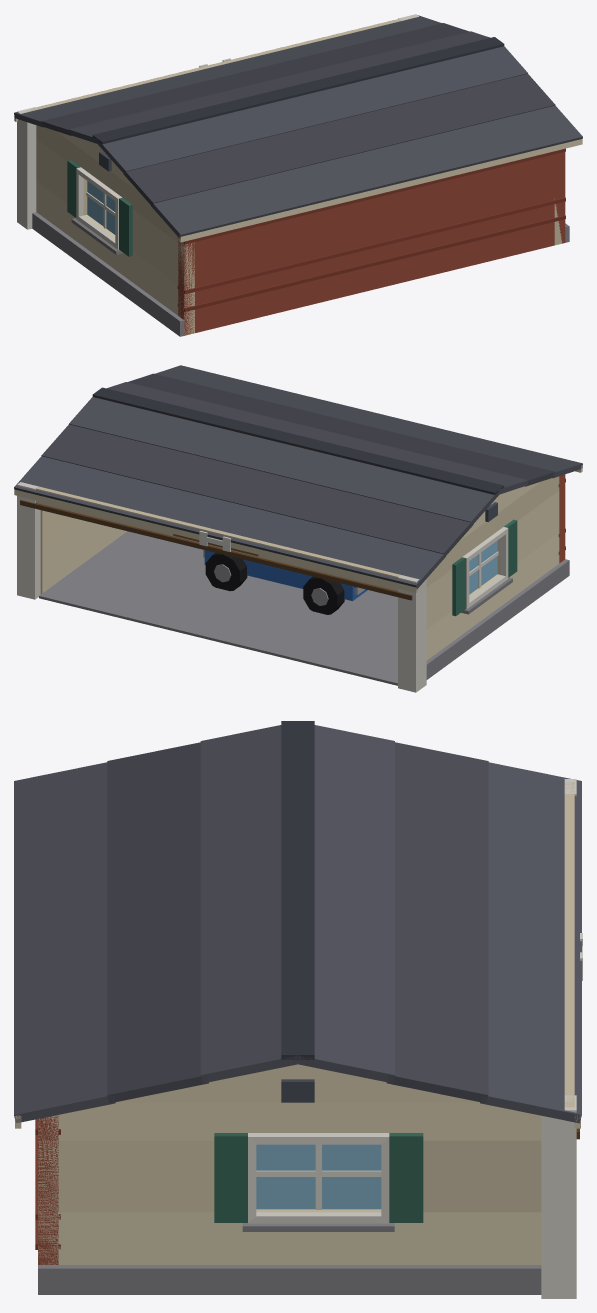
Rendered from Decor_LittleHouse_Garage.fbx.
3 views of the same model, one above another, from view 1: azimuth 30°, elevation 25°; view 2: azimuth 150°, elevation 25°; view 3: azimuth 270°, elevation 25° (orthographic). The views are drawn at different scales.
Parts seen in each view (by area): view 1: Garage_Roof, Garage_Body, Garage_Trim; view 2: Garage_Roof, Garage_Body, Garage_Trim, Garage_Car; view 3: Garage_Roof, Garage_Body, Garage_Trim.
Part boxes in pixels (<box>): Garage_Roof: <box>14,15,582,238</box>; Garage_Body: <box>32,58,569,336</box>; Garage_Trim: <box>14,14,582,256</box>; Garage_Roof: <box>14,365,582,589</box>; Garage_Body: <box>39,474,569,685</box>; Garage_Trim: <box>14,465,582,692</box>; Garage_Car: <box>203,550,367,614</box>; Garage_Roof: <box>14,721,581,1123</box>; Garage_Body: <box>35,933,582,1294</box>; Garage_Trim: <box>15,779,580,1298</box>.
Size of the model in its own units: 38 by 13 by 27.35.
